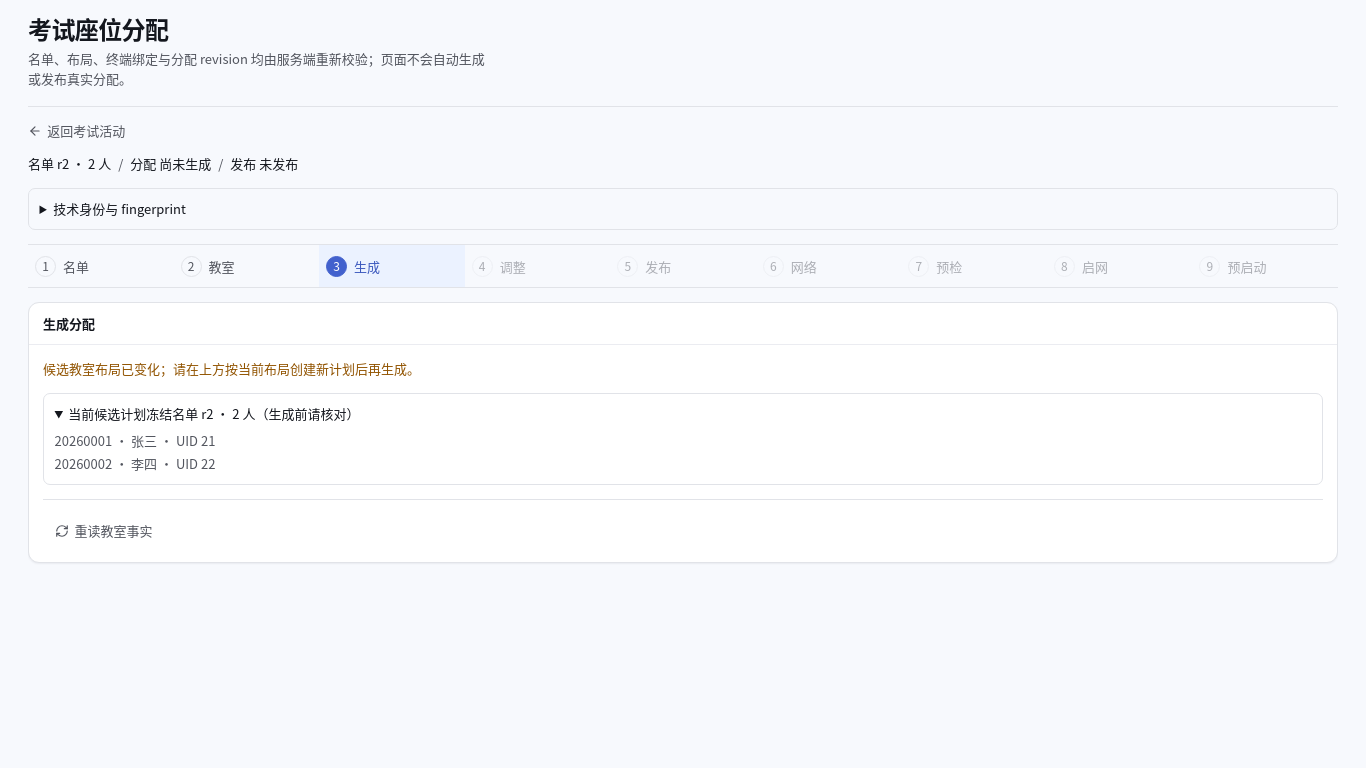
Test case: p2.5 exam seat assignment workspace › keeps preparation available but disables generation when the latest plan layout has drifted
expect the text "候选教室布局已变化；请在上方按当前布局创建新计划后再生成。" is shown: met, box [43,359,420,378]
Step 1. Click the button with aria-label "冻结名单" → x=101, y=266, box [28,245,174,287]
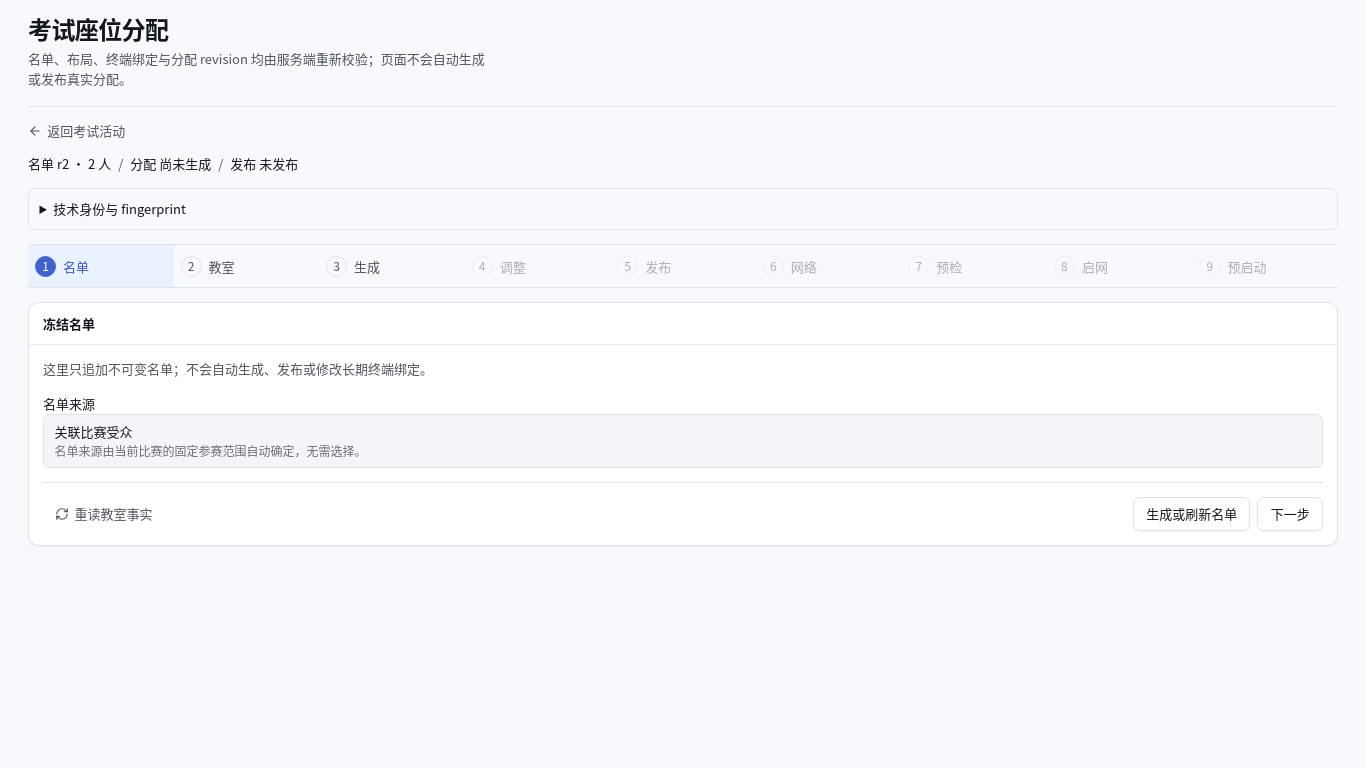
expect the text "名单来源由当前比赛的固定参赛范围自动确定，无需选择。" is shown: met, box [54,442,366,459]
expect the button "生成或刷新名单" is enabled: met, box [1133,497,1250,531]
Step 2. Click the button with aria-label "选择教室" → x=246, y=266, box [174,245,319,287]
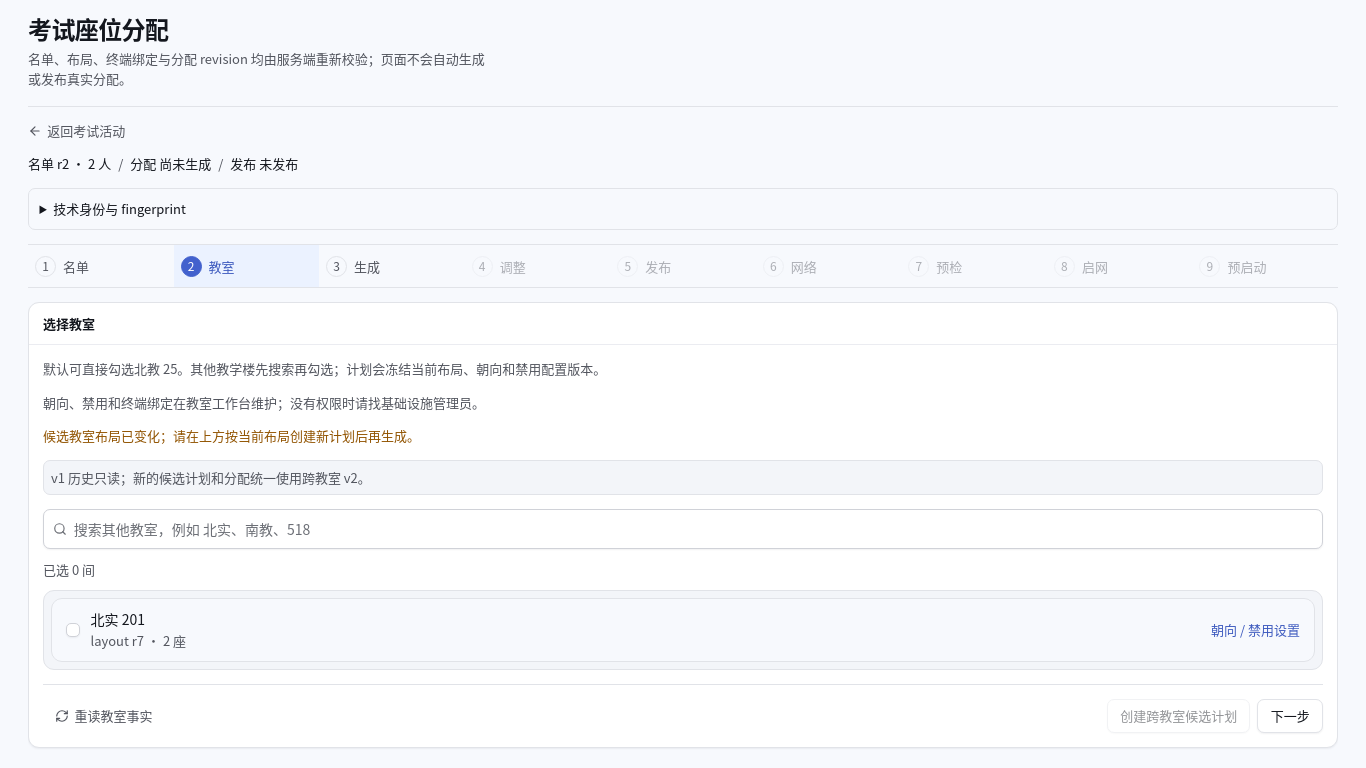
Step 3. Click the checkbox named "选择教室北实 201" → x=126, y=630, box [66,609,186,650]
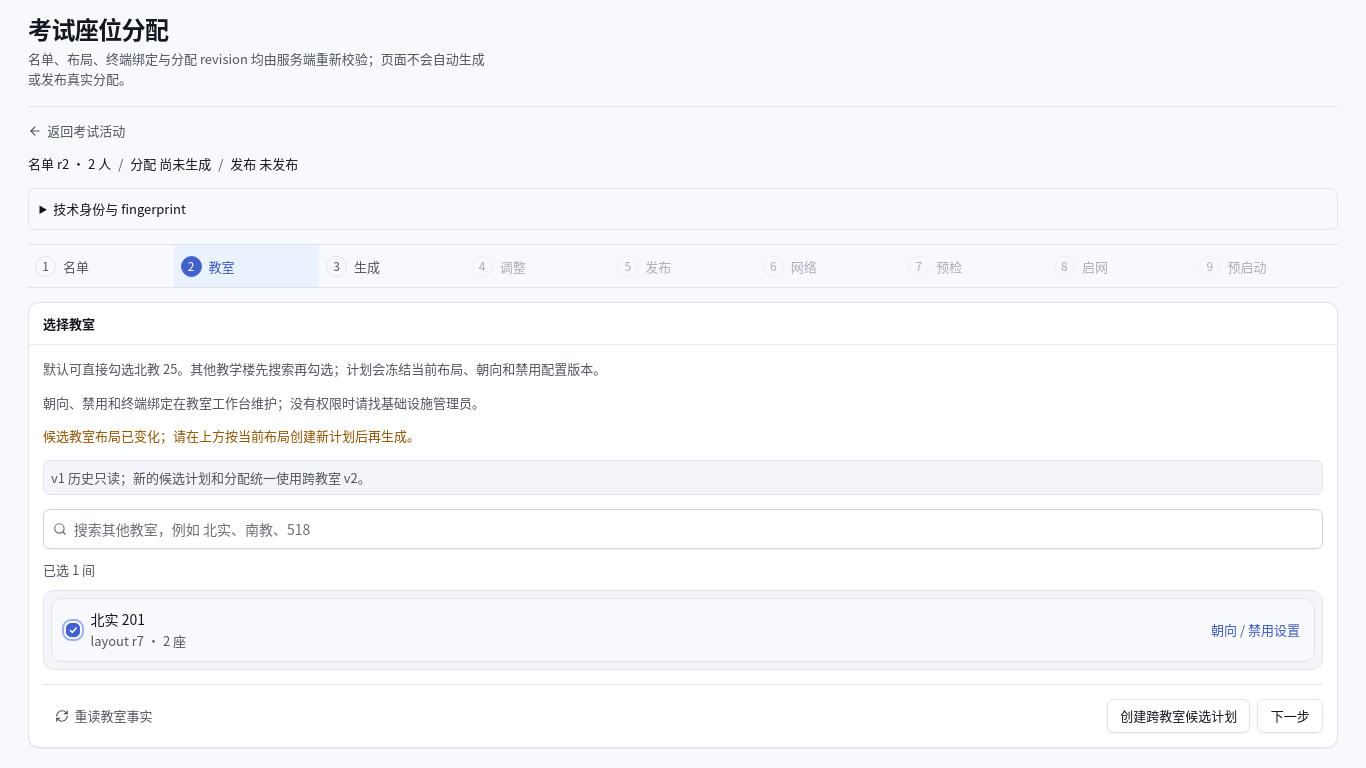
expect the button "创建跨教室候选计划" is enabled: met, box [1107,699,1250,733]
